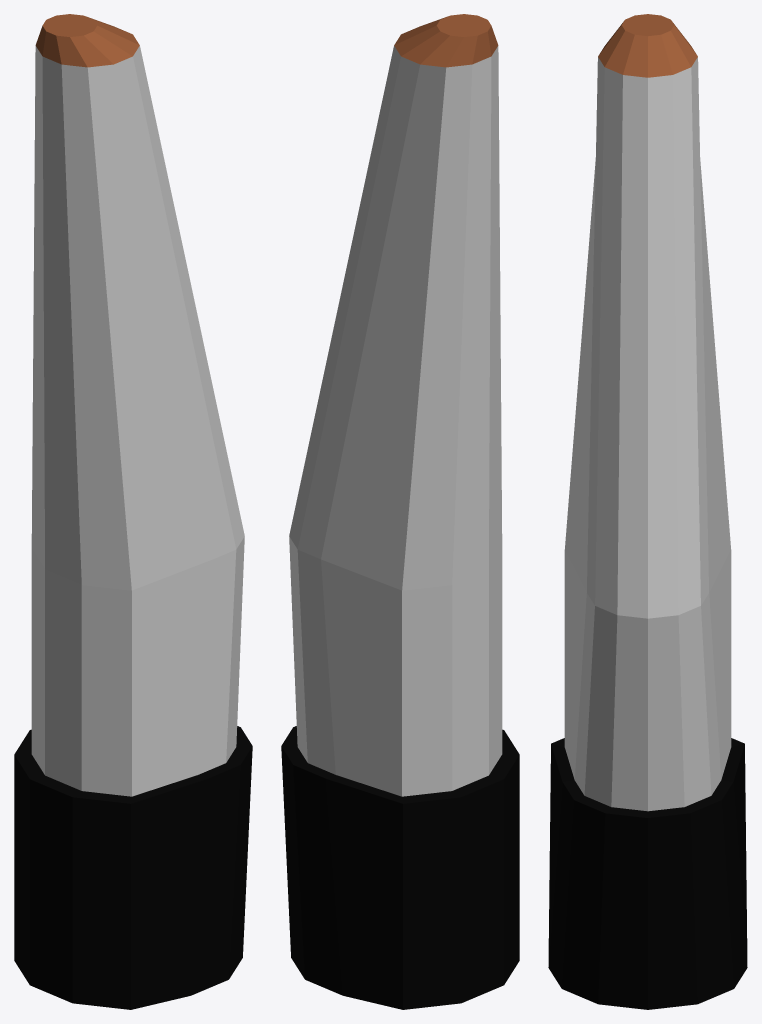
File: Booster06.gltf
3 views of the same model, side by side, from view 1: azimuth 30°, elevation 25°; view 2: azimuth 150°, elevation 25°; view 3: azimuth 270°, elevation 25° (orthographic). The views are drawn at different scales.
Parts seen in each view (by area): view 1: Booster06; view 2: Booster06; view 3: Booster06.
Boxes of the visible parts, x1,y1,x2,y2 form: Booster06: (14, 14, 252, 1009); Booster06: (281, 14, 519, 1009); Booster06: (548, 14, 747, 1009).
Size of the model in its own units: 0.3556 by 1.53 by 0.3029.
